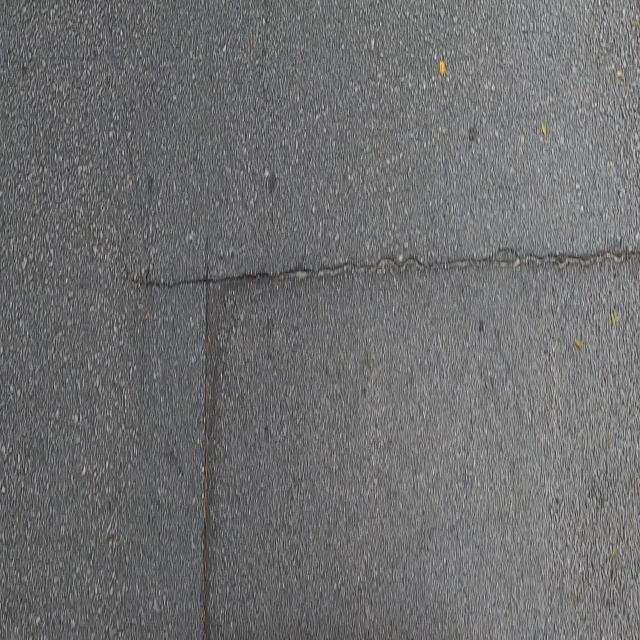Retak-Melintang: (123, 243, 638, 301)
Retak-Memanjang: (196, 228, 213, 640)
